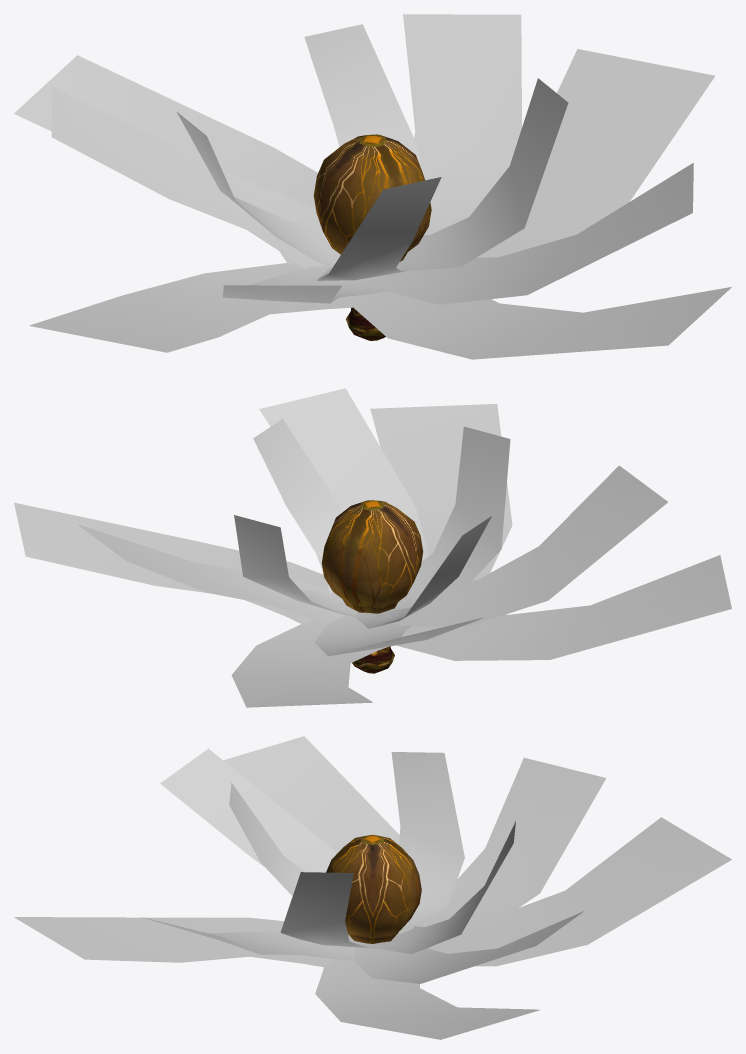
The model's file is Bug_farm_01_a.fbx.
The picture shows the model from 3 angles, top to bottom: view 1: azimuth 30°, elevation 25°; view 2: azimuth 150°, elevation 25°; view 3: azimuth 270°, elevation 25°; orthographic projection. The views are drawn at different scales.
Parts seen in each view (by area): view 1: Bug_farm_01_a; view 2: Bug_farm_01_a; view 3: Bug_farm_01_a.
Part boxes in pixels (box(x1,y1,x2,y2)): Bug_farm_01_a: box(14, 14, 731, 359); Bug_farm_01_a: box(14, 388, 731, 707); Bug_farm_01_a: box(14, 736, 731, 1039).
Size of the model in its own units: 14.84 by 4.24 by 14.84.
